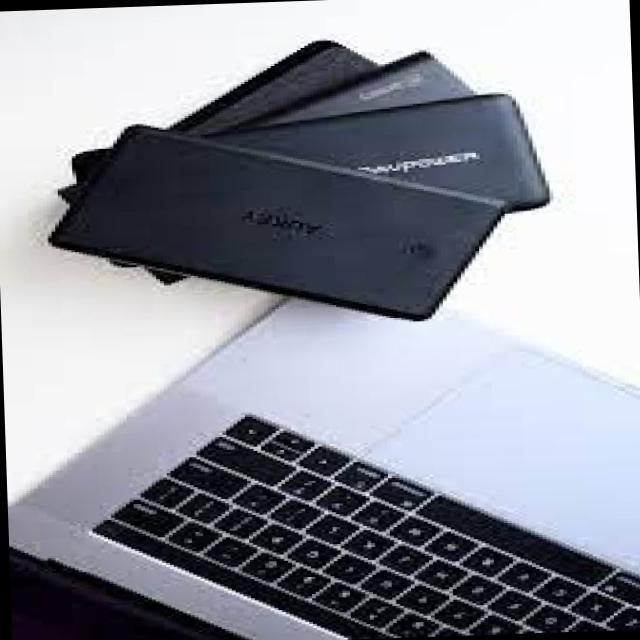portable-charger: (37, 106, 512, 336), (78, 90, 553, 268), (228, 42, 495, 144), (167, 23, 373, 148)
